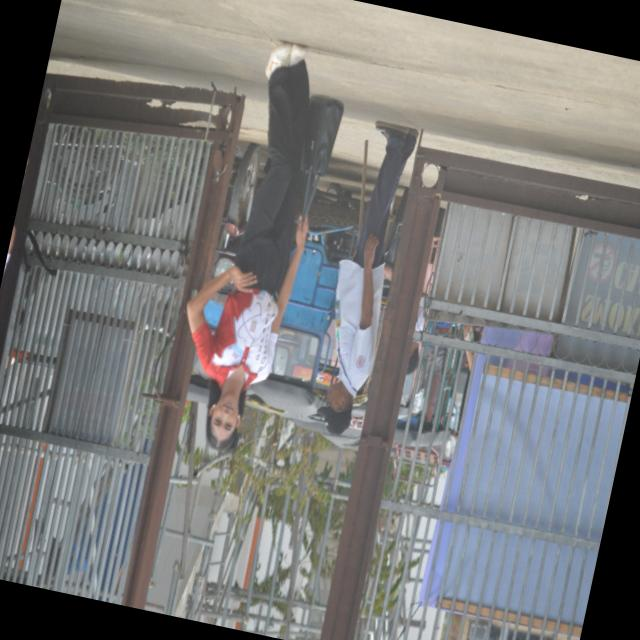person: (186, 42, 308, 448), (318, 121, 418, 434)
